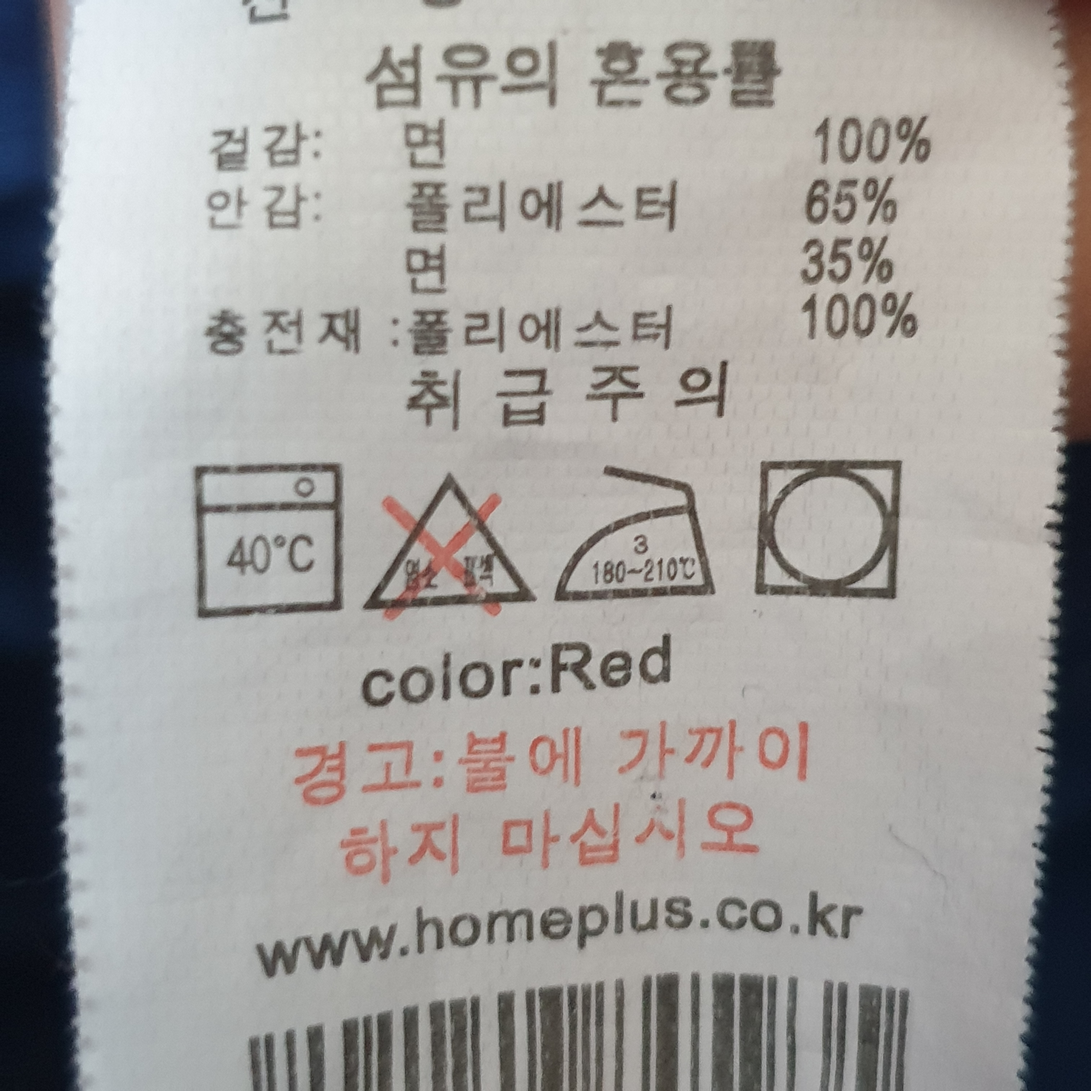KR_iron_high_temp: (544, 452, 726, 615)
KR_no_chlorine_bleach: (360, 469, 538, 618)
KR_tumble_dry: (746, 442, 911, 616)
KR_wash_40: (185, 452, 351, 625)
